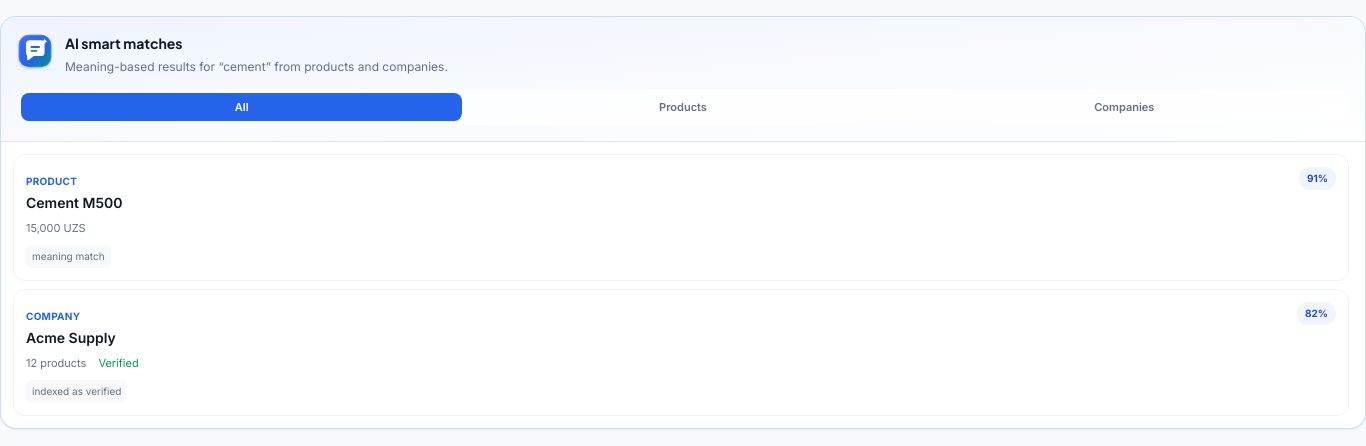
DashboardAiSearchPanel › renders clickable product and company matches in the right-side panel
Expected: the text "91%" is shown, [1299,167,1336,190]
What coordinates should you click on to do the following:
click the button "Companies"
I would click on:
 (1124, 107)
Its box is [904,92,1345,121].
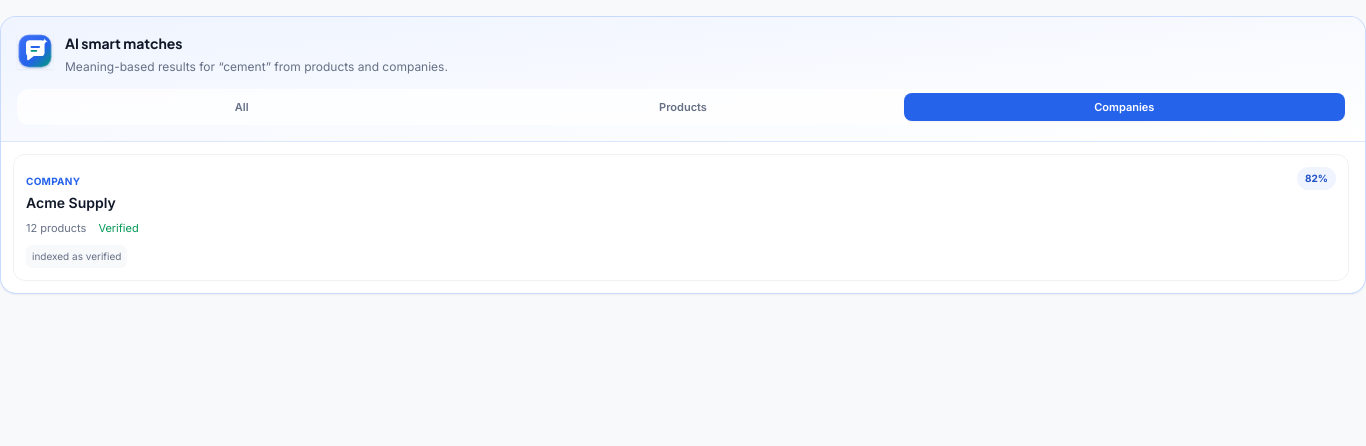
Expected: the link "Acme Supply" is shown, [13,154,1349,281]
Now the link "Cement M500" is gone
